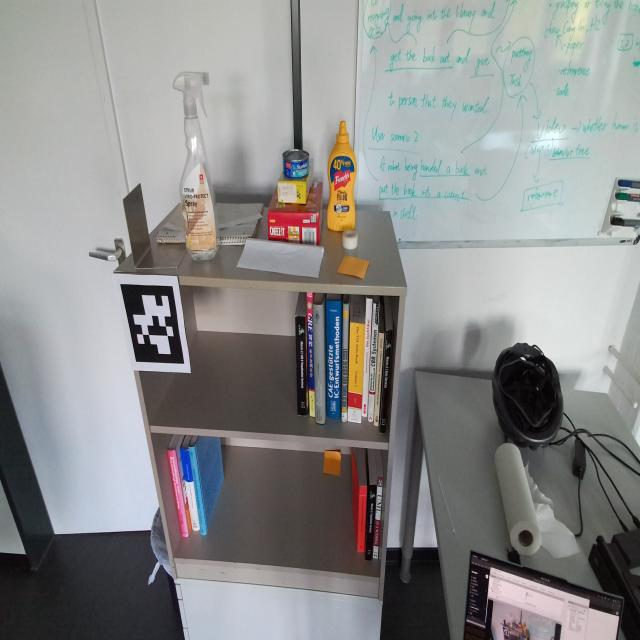Book Spine: (167, 448, 189, 538), (326, 301, 342, 420), (347, 322, 365, 423), (180, 449, 200, 531), (189, 446, 207, 535), (367, 302, 380, 422), (313, 304, 325, 424), (380, 329, 393, 433), (362, 298, 373, 417), (295, 315, 307, 416), (306, 292, 315, 417), (341, 302, 349, 422), (374, 333, 384, 426), (365, 484, 377, 561), (373, 476, 383, 559), (357, 486, 367, 552)
